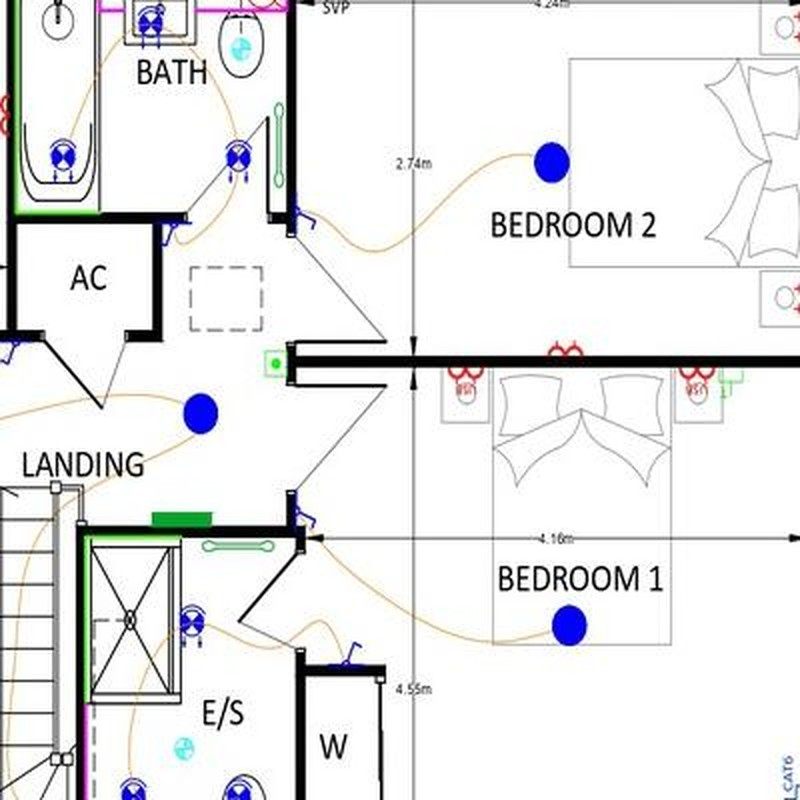Ceiling Mounted Continuous Extract FanWith Boost Mode Activated By Light Switch: (230, 38, 251, 60), (174, 738, 194, 759)
Double Socket: (547, 339, 584, 356)
Full Height Tiling: (14, 1, 106, 214), (83, 535, 184, 704)
Light Switch: (296, 504, 317, 527), (1, 341, 21, 365), (341, 642, 362, 664), (297, 207, 317, 229), (162, 224, 180, 246)
Low Energy Downlighter: (49, 138, 77, 182), (138, 6, 164, 49), (226, 140, 252, 182), (180, 604, 205, 647), (224, 779, 253, 800), (120, 777, 146, 800)
Low Energy Pendant Light: (535, 142, 571, 184), (183, 393, 219, 435), (553, 605, 587, 646)
Programmable Room Thermostat: (264, 350, 286, 377)
Radiator: (152, 512, 212, 527)
Telephone Socket: (717, 367, 743, 398)
USB Double Socket: (446, 367, 485, 395), (678, 367, 717, 394)
